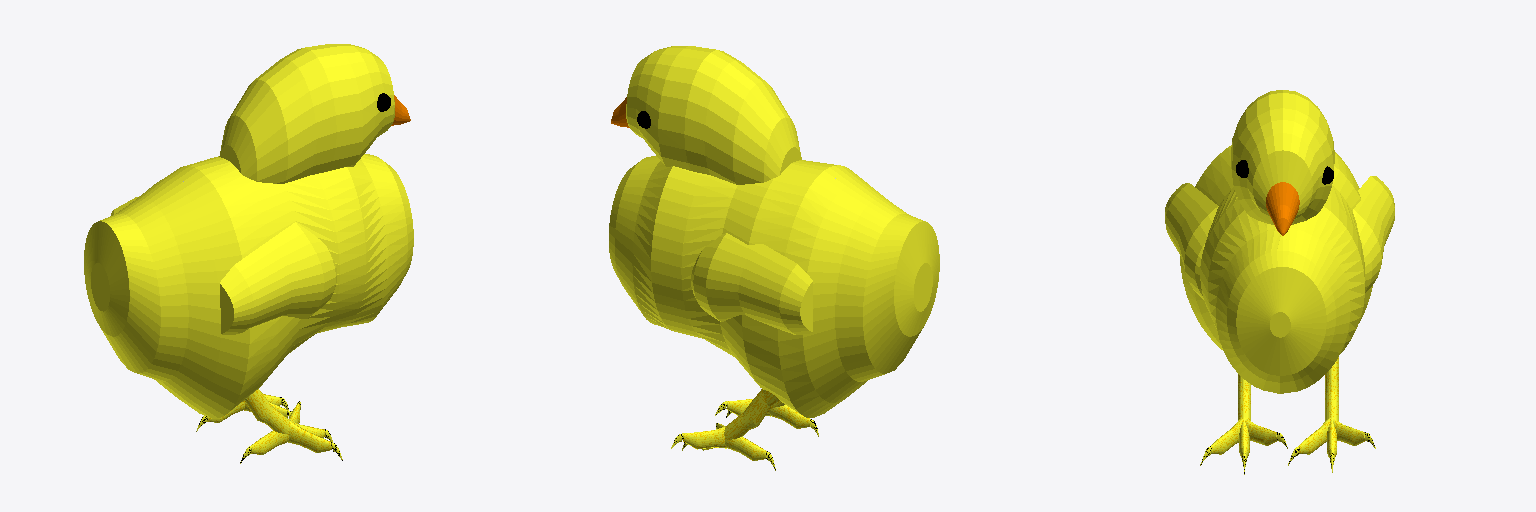
The model's file is Chick.obj.
3 renders of one model, left to right at view 1: azimuth 30°, elevation 25°; view 2: azimuth 150°, elevation 25°; view 3: azimuth 270°, elevation 25°, orthographic.
Parts seen in each view (by area): view 1: group7 group6 group5 group3 group4 group2 group1 download_mid_4f; view 2: group7 group6 group5 group3 group4 group2 group1 download_mid_4f; view 3: group7 group6 group5 group3 group4 group2 group1 download_mid_4f.
Part boxes in pixels (x1,y1,x2,y2): group7 group6 group5 group3 group4 group2 group1 download_mid_4f: (84, 44, 413, 463); group7 group6 group5 group3 group4 group2 group1 download_mid_4f: (609, 46, 939, 470); group7 group6 group5 group3 group4 group2 group1 download_mid_4f: (1165, 90, 1394, 474).
Size of the model in its own units: 0.2066 by 0.2425 by 0.1329.